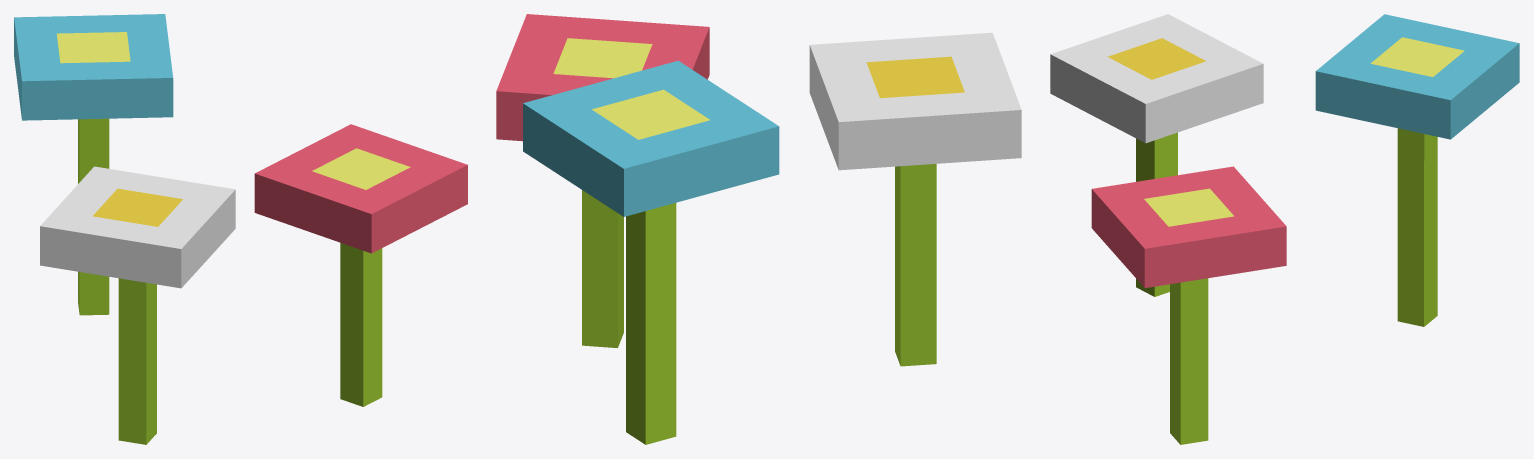
File: Flower_02_G.fbx
The picture shows the model from 3 angles, left to right: view 1: azimuth 30°, elevation 25°; view 2: azimuth 150°, elevation 25°; view 3: azimuth 270°, elevation 25°; orthographic projection. The views are drawn at different scales.
Parts seen in each view (by area): view 1: Flower_02_G; view 2: Flower_02_G; view 3: Flower_02_G.
Boxes of the visible parts, x1,y1,x2,y2 form: Flower_02_G: (14, 14, 467, 444); Flower_02_G: (496, 14, 1021, 444); Flower_02_G: (1050, 14, 1519, 444).
Bounding box in the file's own units: 89.47 × 62.57 × 87.28.
